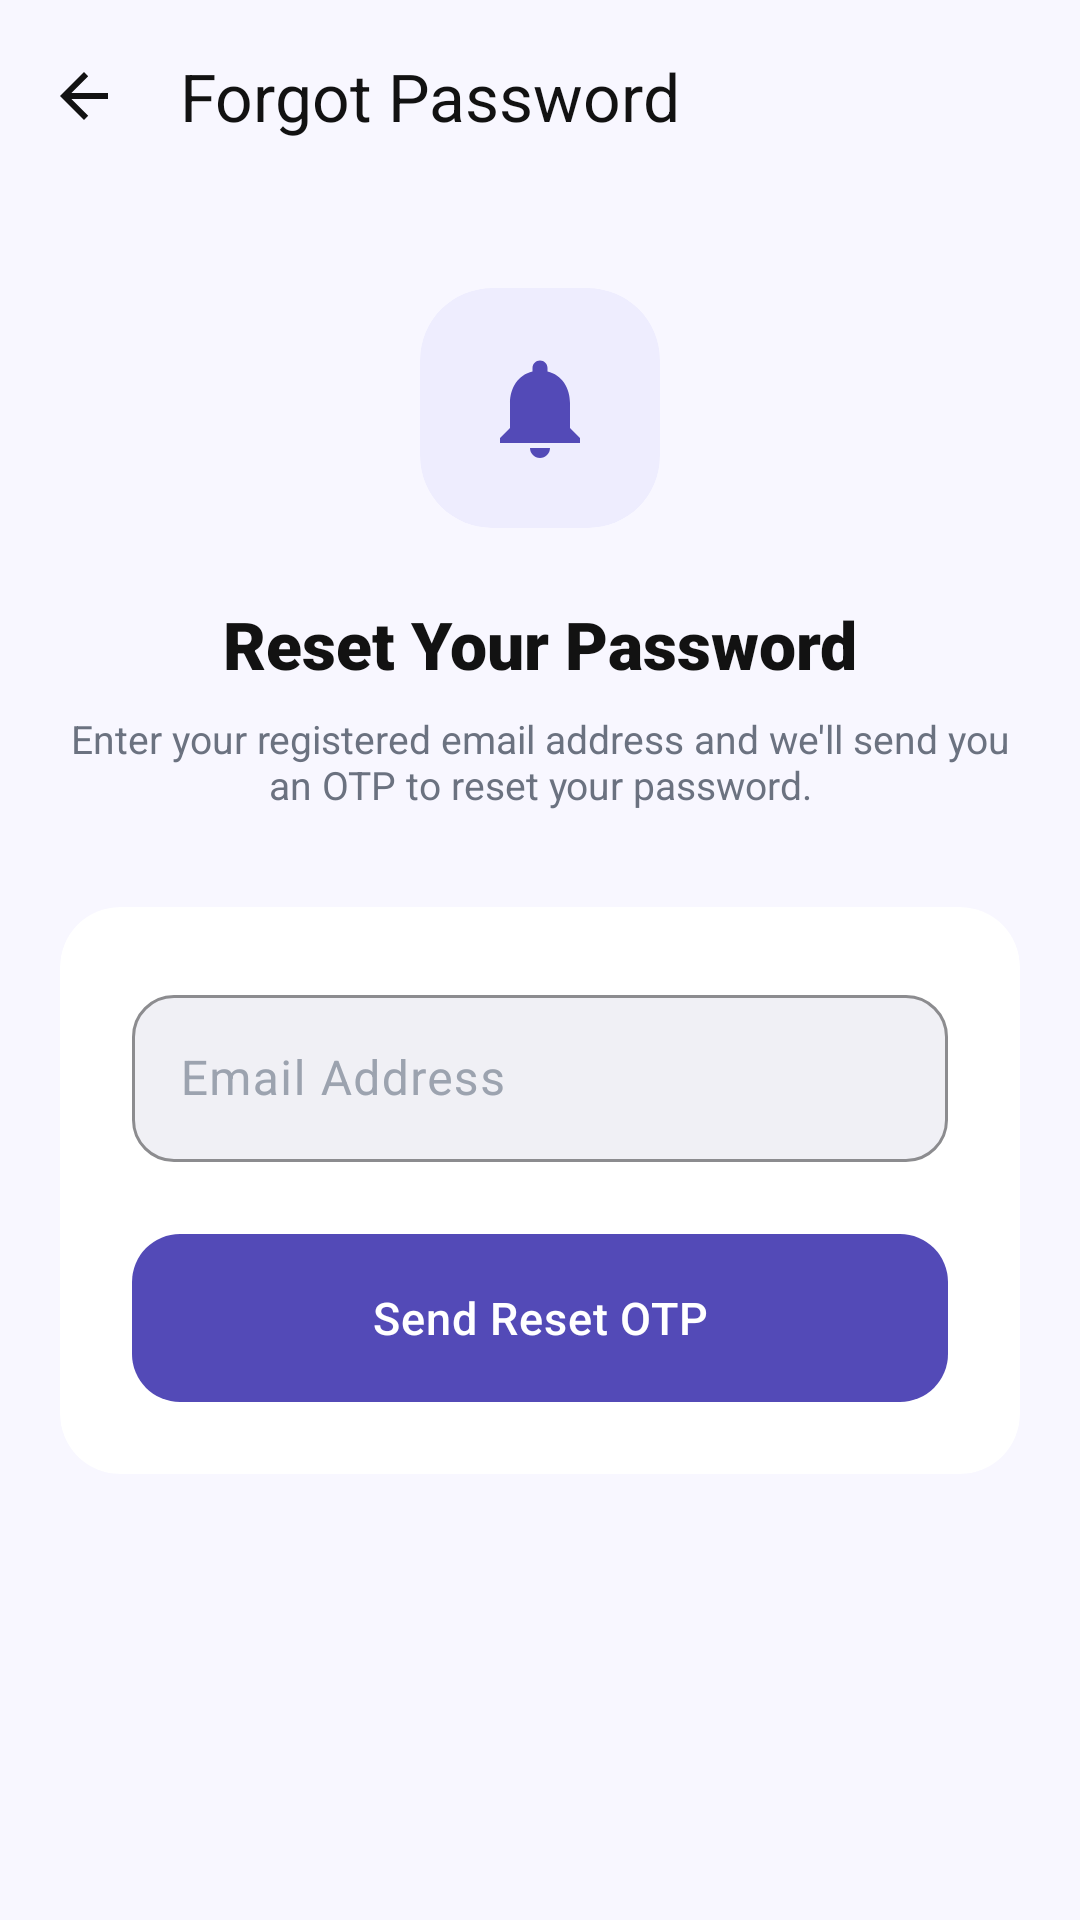

Icons on this 1080 × 1920 Android screen, each with its box as (x1, y1, x2, y2):
notifications: (500, 360, 580, 458)
